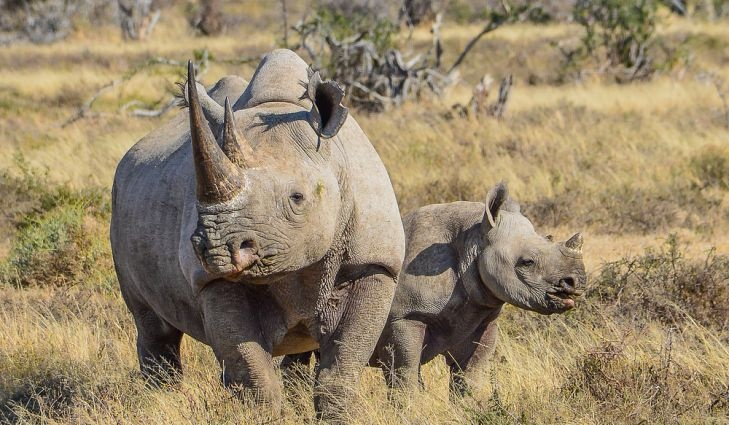rhino: (108, 48, 407, 418), (362, 177, 588, 406)
